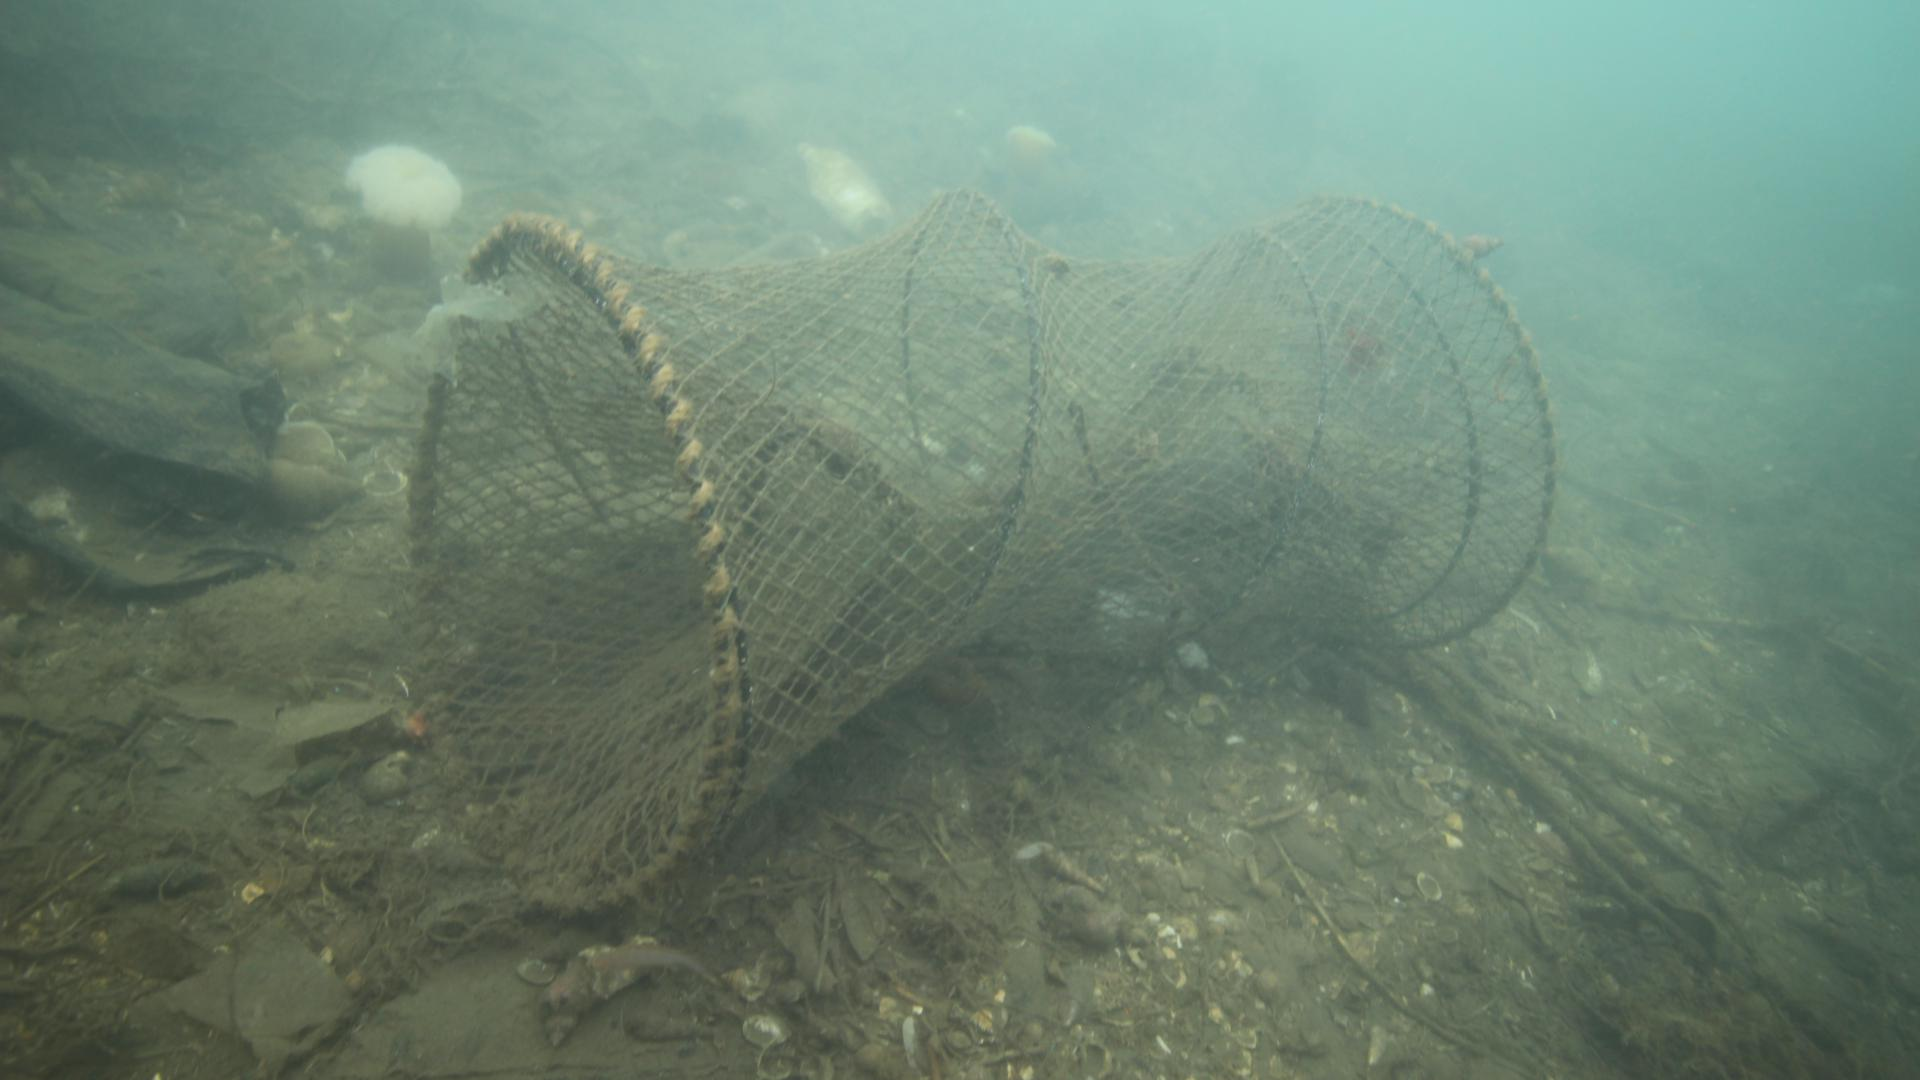spring fish trap: (405, 183, 1561, 916)
